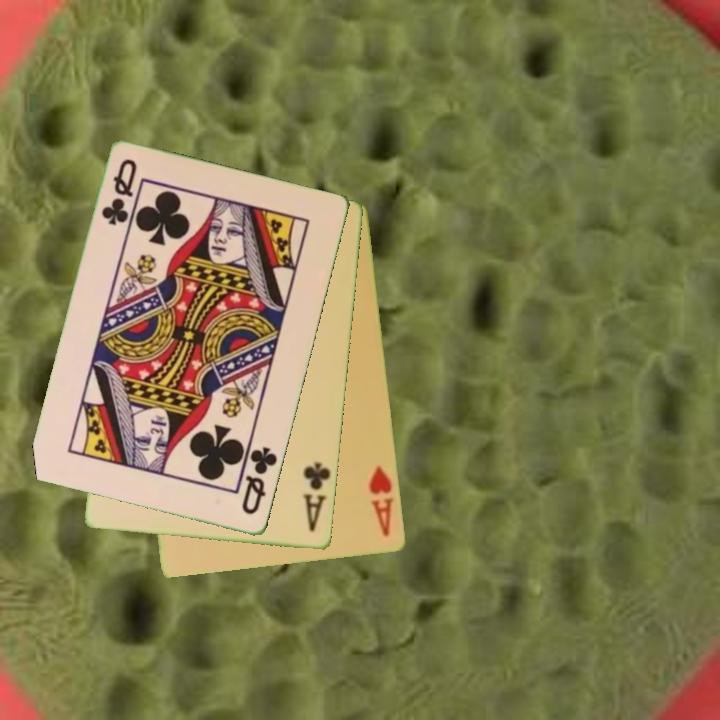Ac: (300, 459, 334, 535)
Ah: (365, 462, 397, 539)
Qc: (238, 443, 281, 518), (98, 155, 141, 229)
